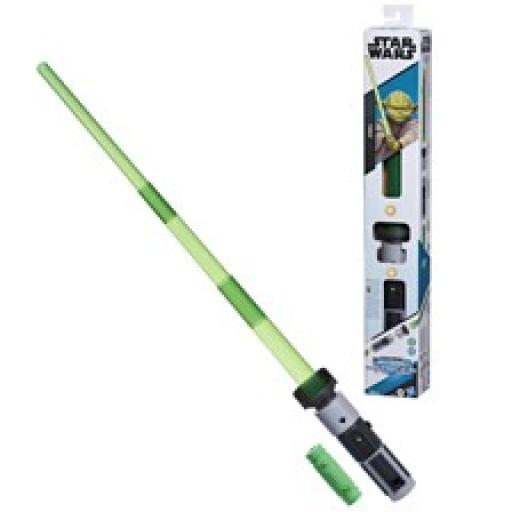lightsaber: (38, 60, 420, 506)
